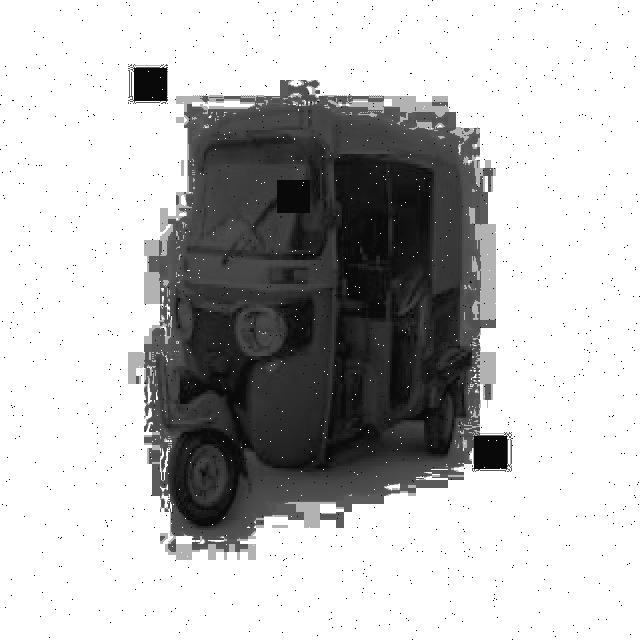Auto-Rickshaw: (108, 104, 512, 546)
